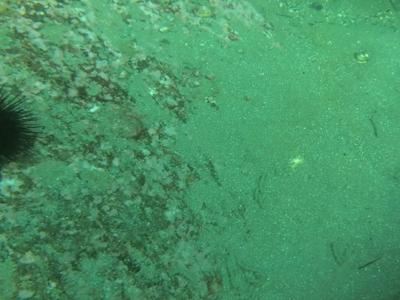urchin: (2, 82, 48, 166)
